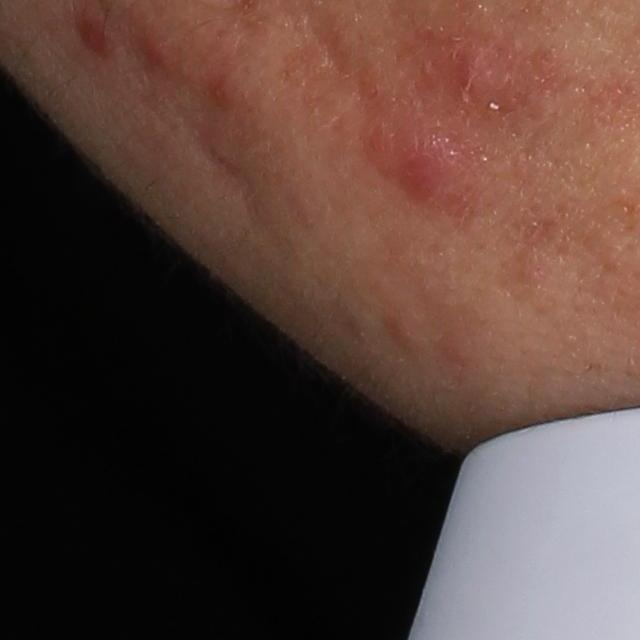papule: (392, 118, 459, 208), (445, 46, 505, 123), (125, 24, 178, 79), (194, 76, 248, 117), (78, 9, 121, 54)
